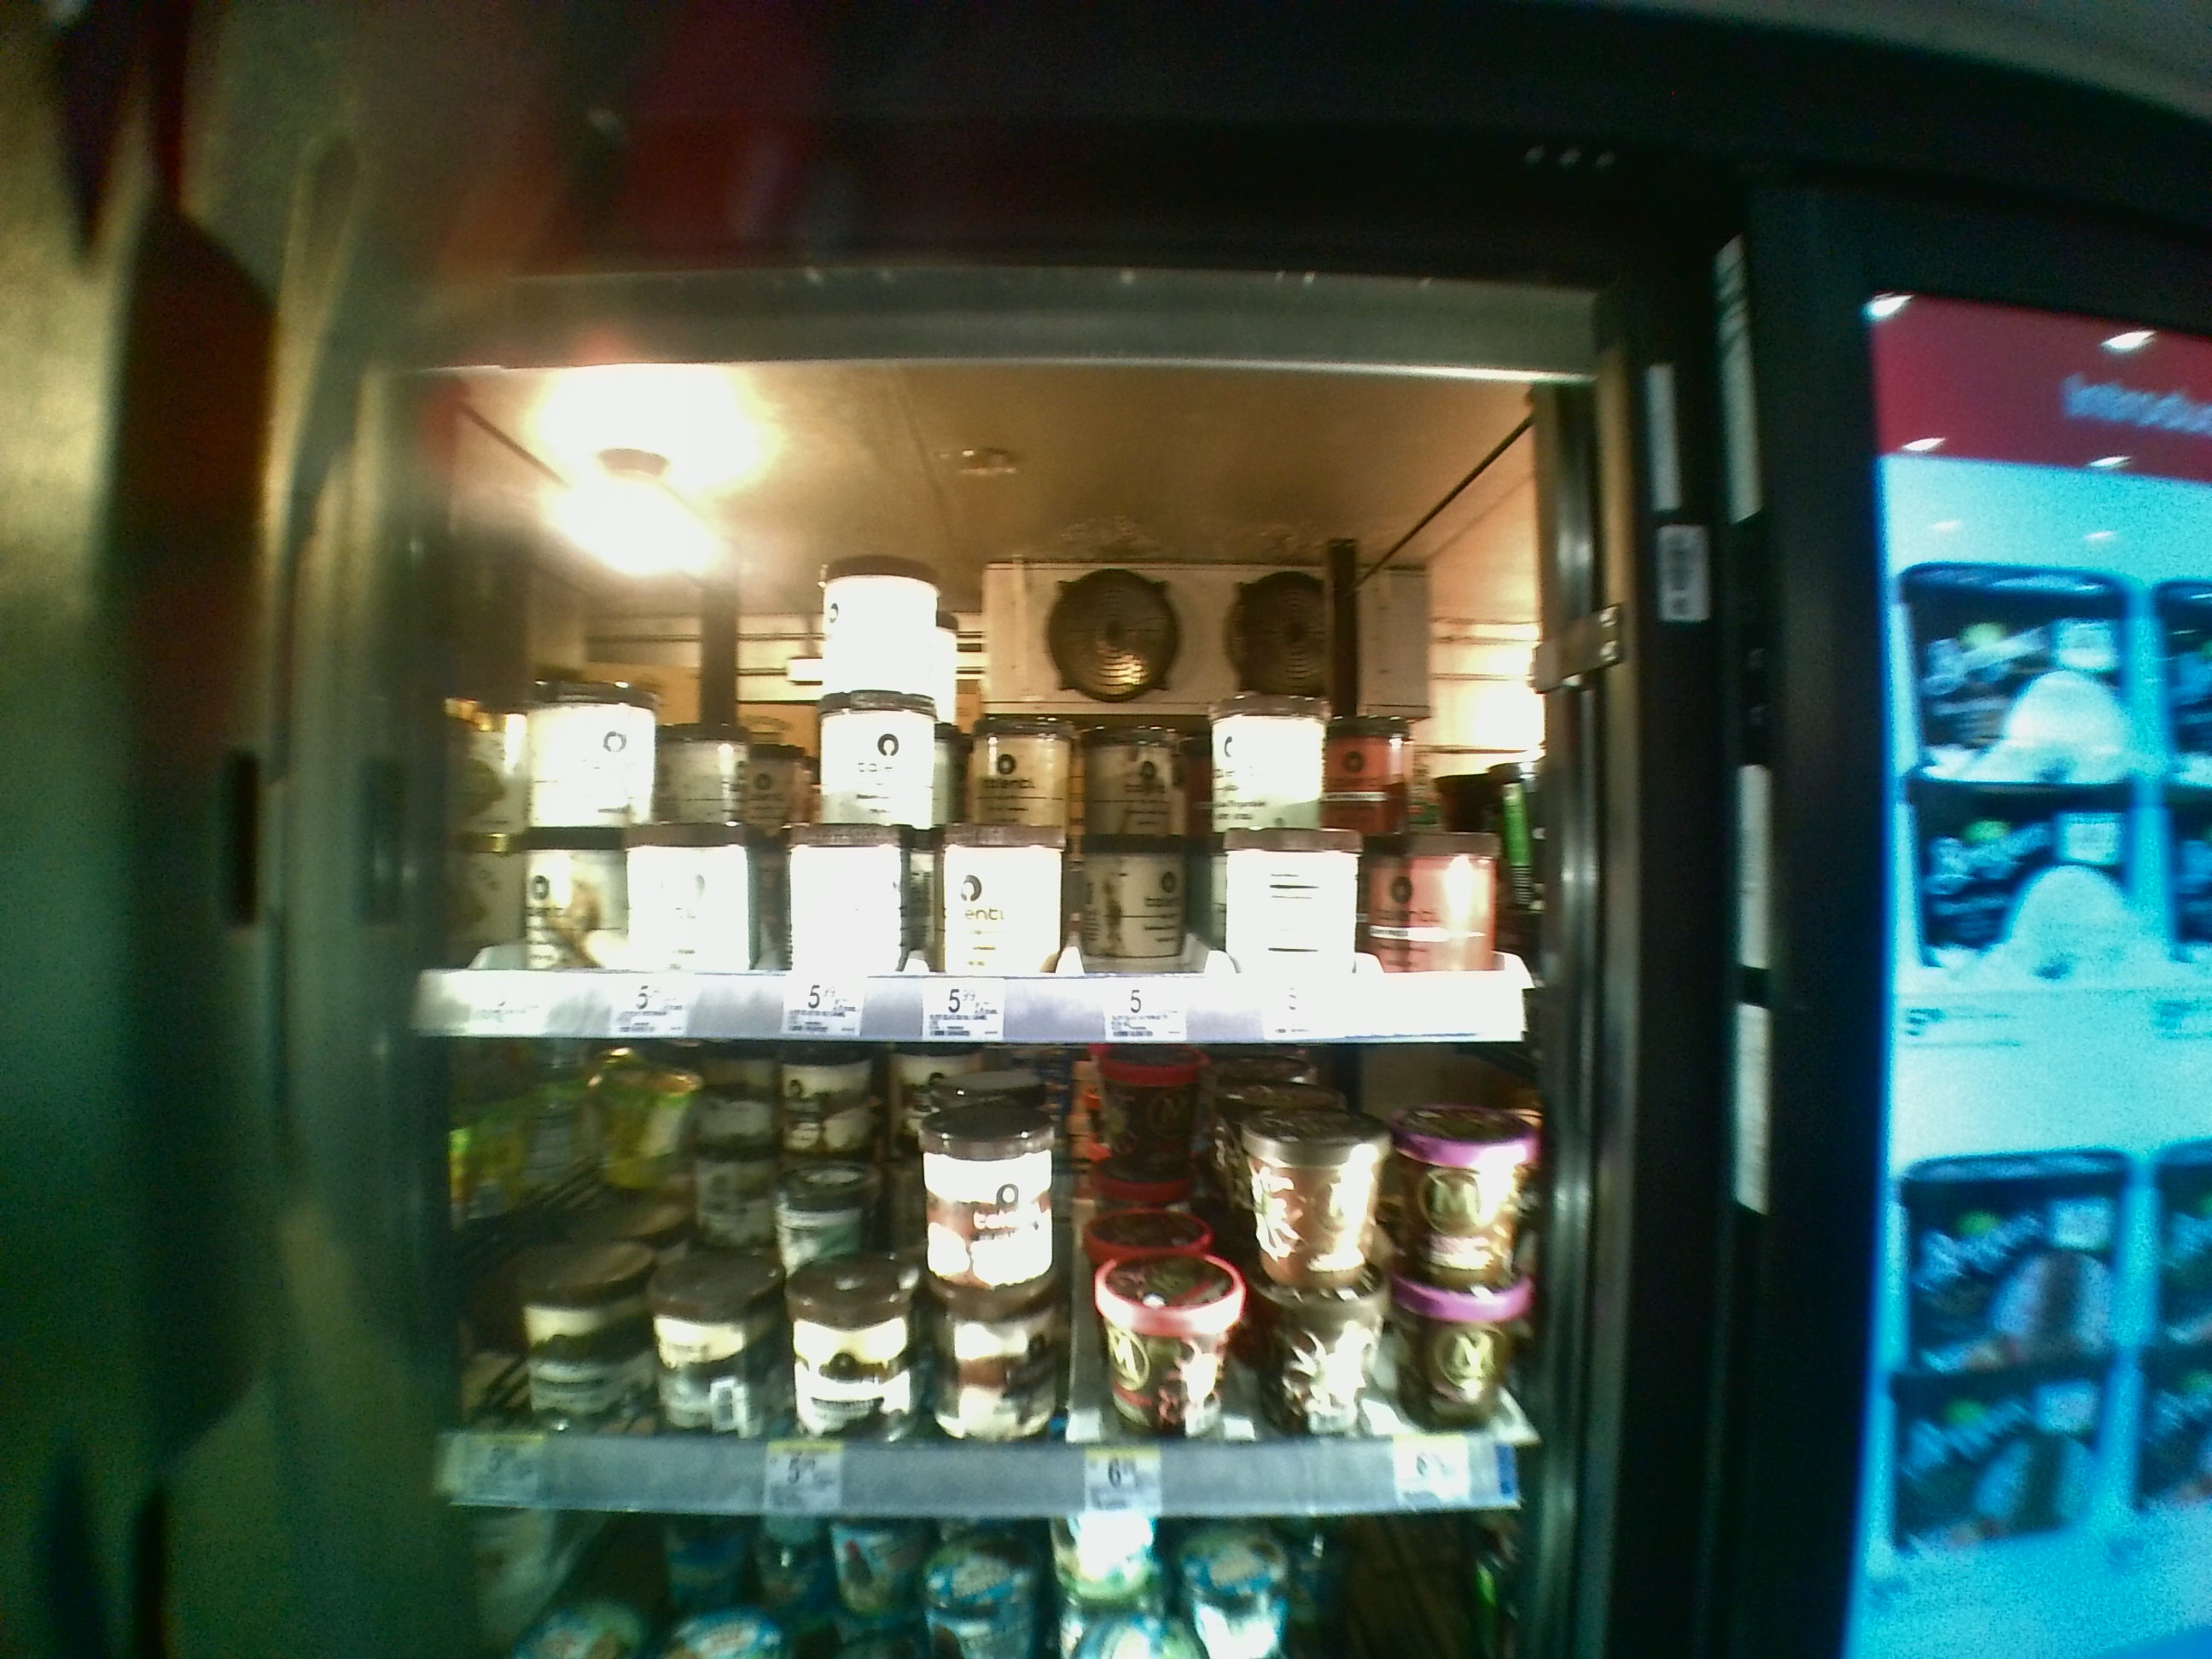shelf: (415, 408, 1536, 1040), (425, 1053, 1545, 1514)
